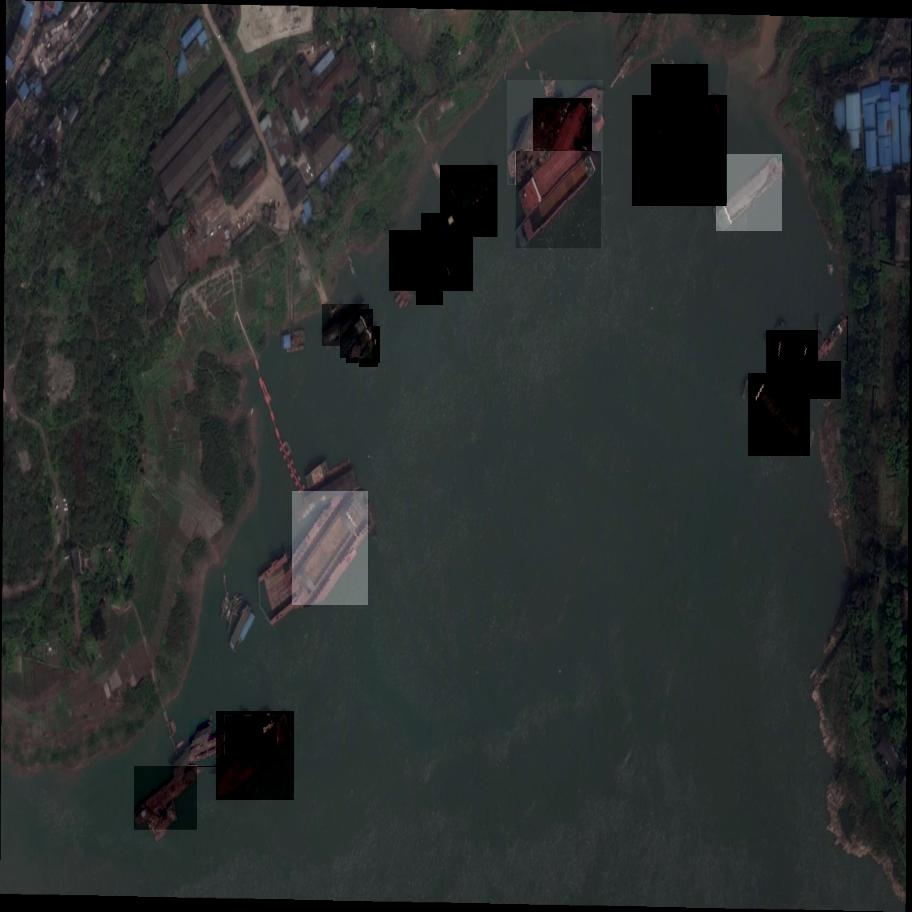ship: (497, 80, 616, 185), (626, 93, 731, 206), (285, 489, 375, 605), (512, 152, 608, 250), (530, 98, 598, 224), (210, 711, 302, 802), (712, 155, 791, 234), (760, 330, 848, 400), (649, 64, 714, 158), (743, 373, 815, 456), (436, 165, 503, 238), (129, 765, 204, 830), (419, 213, 477, 292), (384, 230, 449, 291), (184, 719, 262, 769), (221, 715, 281, 760), (793, 339, 845, 385), (319, 304, 373, 347), (337, 309, 376, 358), (816, 315, 851, 361), (342, 325, 384, 363), (437, 250, 470, 285), (413, 278, 447, 305), (358, 334, 378, 367)
